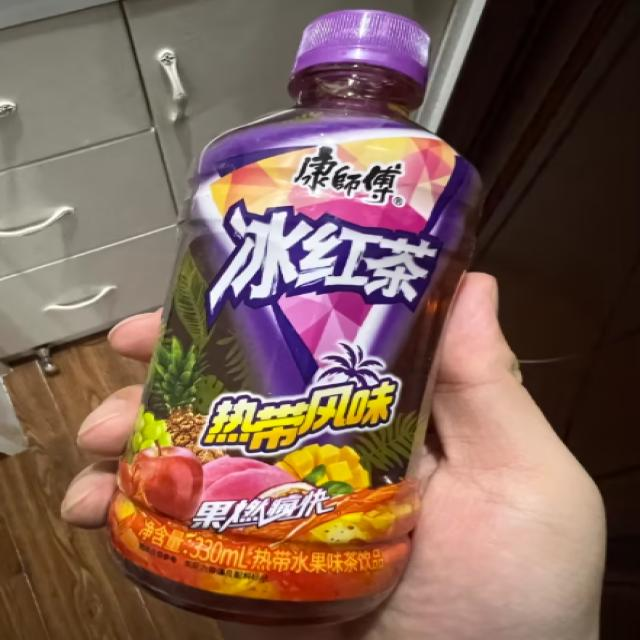bottle: (98, 7, 490, 630)
